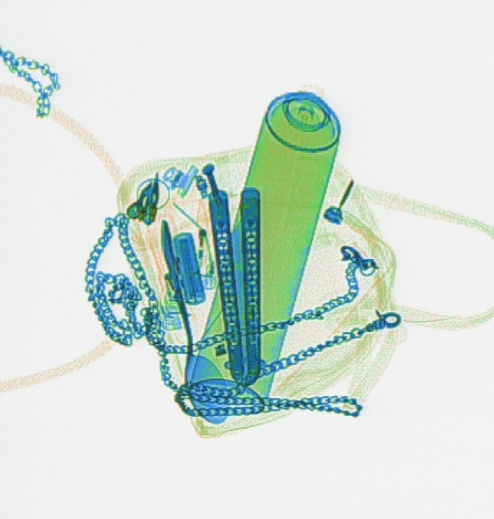pressure: (183, 90, 339, 420)
